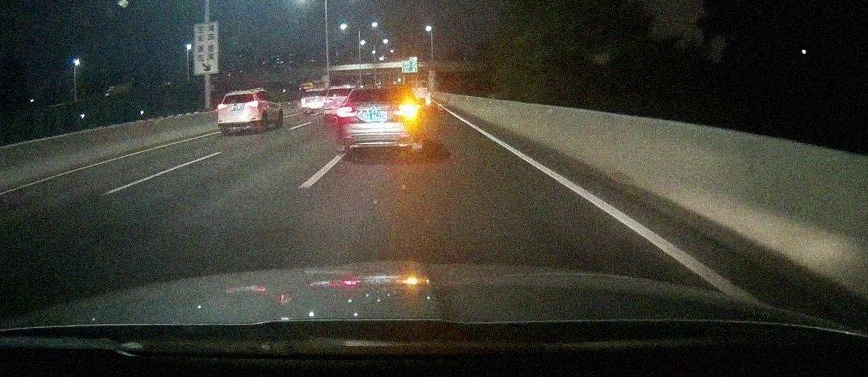L_light: (337, 106, 358, 117), (217, 104, 227, 109)
R_light: (394, 104, 417, 116), (249, 101, 259, 107)
T_light: (373, 87, 386, 90), (234, 93, 244, 96)
night-no: (217, 90, 262, 132)
night-right: (336, 85, 420, 158)
